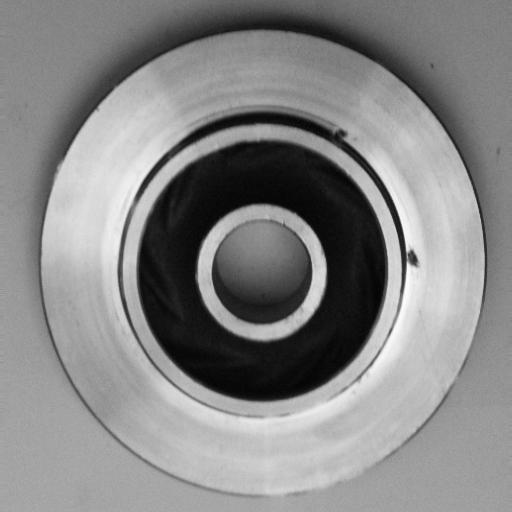crack: (325, 116, 362, 154), (400, 235, 432, 276)
scratch: (258, 450, 381, 506)
unpolished_casting: (40, 26, 490, 498)
